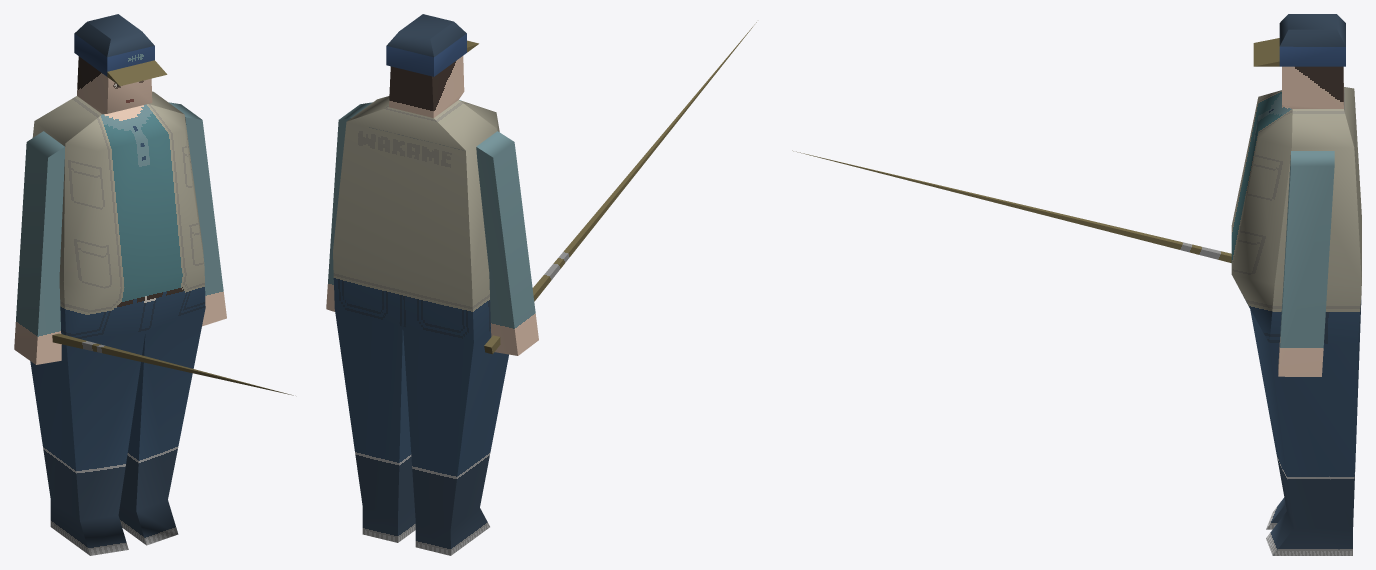
Rendered from 022e_Chubby_Fisherman.glb.
3 views of the same model, side by side, from view 1: azimuth 30°, elevation 25°; view 2: azimuth 150°, elevation 25°; view 3: azimuth 270°, elevation 25° (orthographic).
Parts seen in each view (by area): view 1: part_0; view 2: part_0; view 3: part_0.
Boxes of the visible parts, <box> form: part_0: <box>14,14,293,555</box>; part_0: <box>326,14,756,555</box>; part_0: <box>792,14,1361,555</box>.
Bounding box in the file's own units: 0.7549 × 1.89 × 1.92.
Materials: 1 (1 with a texture image).
